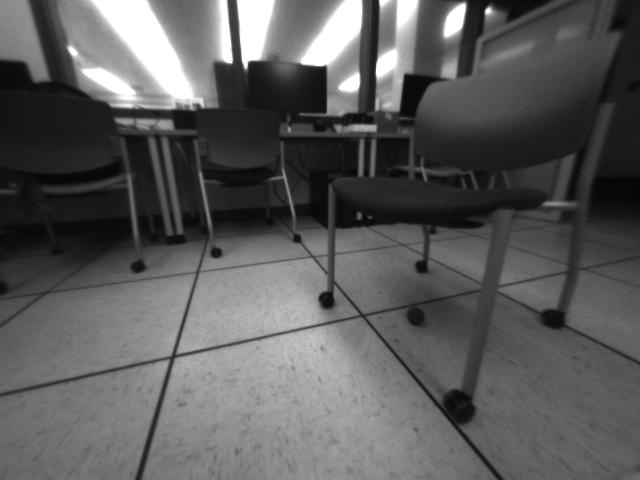dogtoy: (399, 298, 434, 333)
